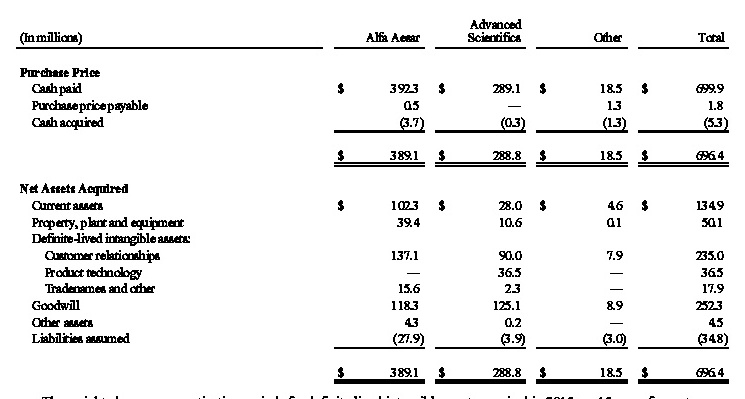table: (0, 0, 745, 399)
